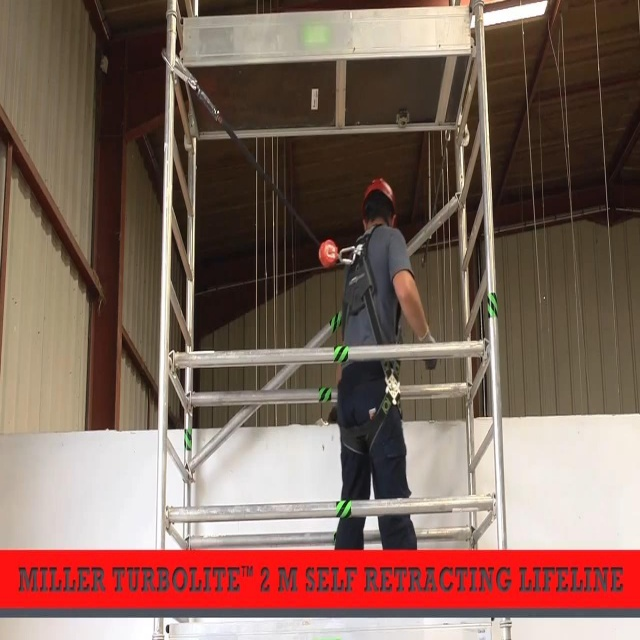Arnes_seguridad: (316, 215, 407, 456)
